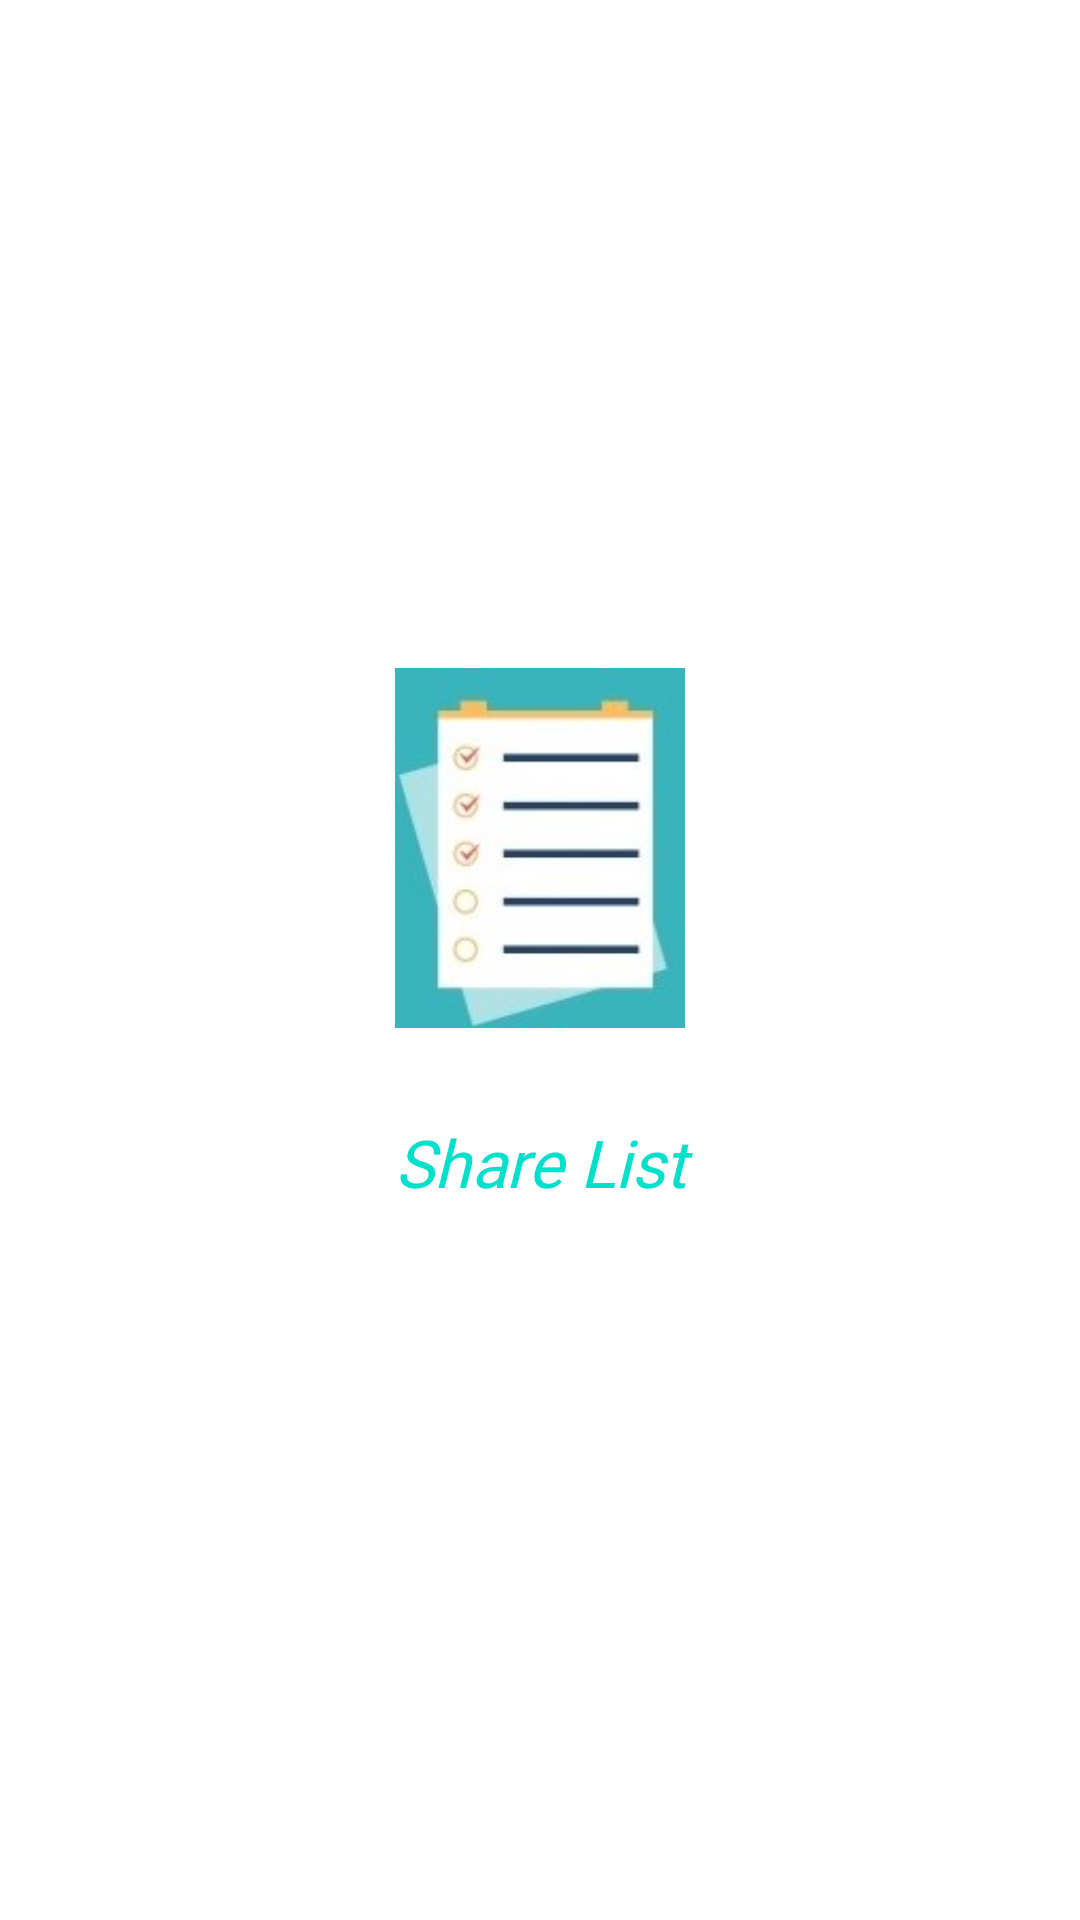

Named icons in this screenshot (1080*1920) and their bounding boxes, [x1, y1, x2, y2]:
todolist: [395, 668, 685, 1028]
